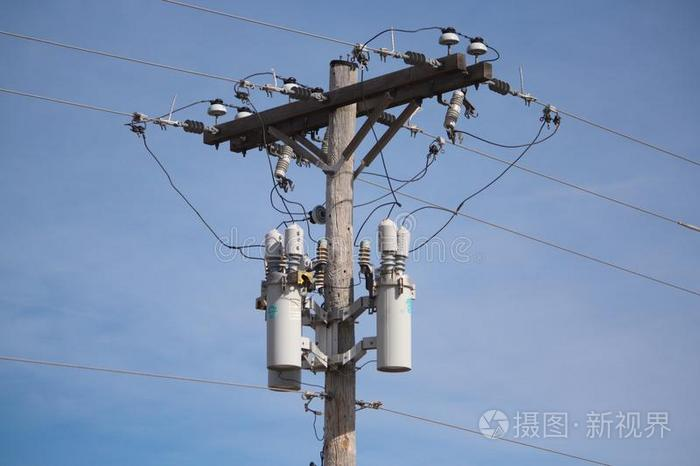insulator: (401, 47, 428, 65), (181, 118, 205, 138), (489, 77, 511, 95), (376, 110, 398, 126), (289, 86, 310, 101)
